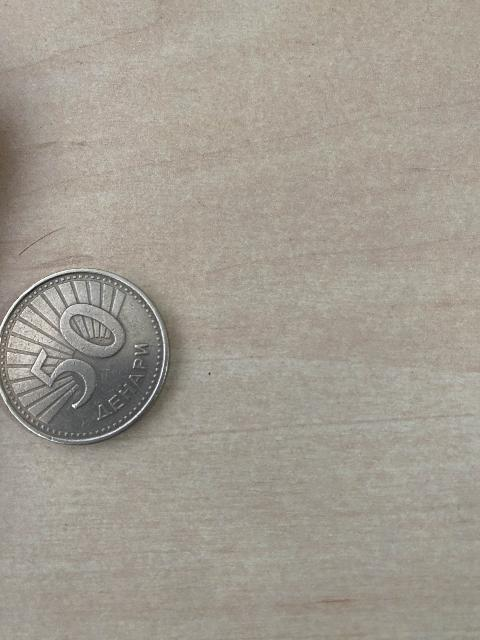50_coin: (0, 273, 173, 440)
